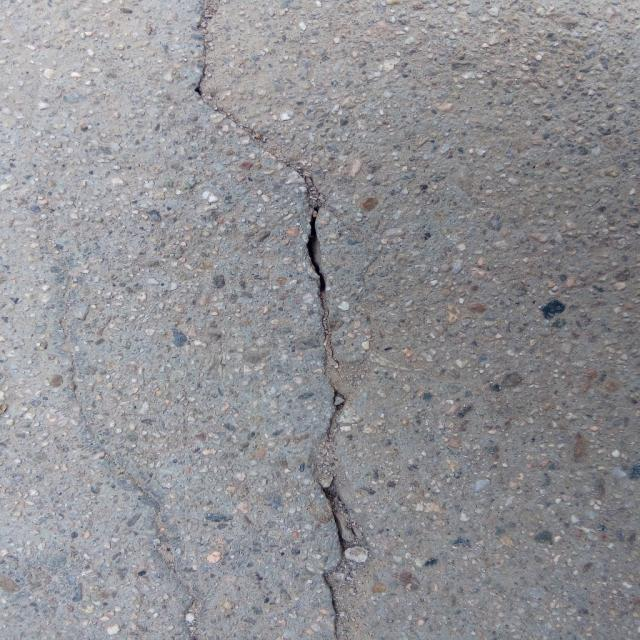cracks: (173, 0, 366, 640)
